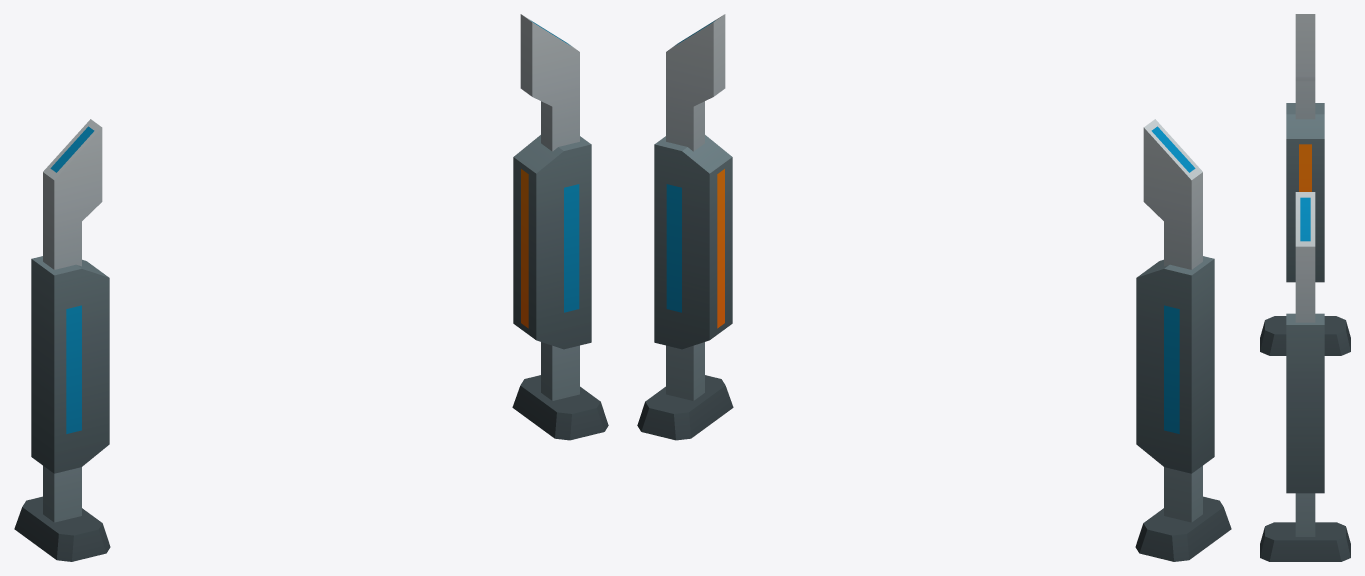
Rendered from Barriaer_010.fbx.
3 views of the same model, side by side, from view 1: azimuth 30°, elevation 25°; view 2: azimuth 150°, elevation 25°; view 3: azimuth 270°, elevation 25° (orthographic). The views are drawn at different scales.
Parts seen in each view (by area): view 1: Barriaer_010; view 2: Barriaer_010; view 3: Barriaer_010.
Part boxes in pixels (x1,y1,x2,y2): Barriaer_010: (14,14,608,561); Barriaer_010: (637,14,1231,561); Barriaer_010: (1260,14,1350,561).
Bounding box in the file's own units: 199 × 33.51 × 140.
